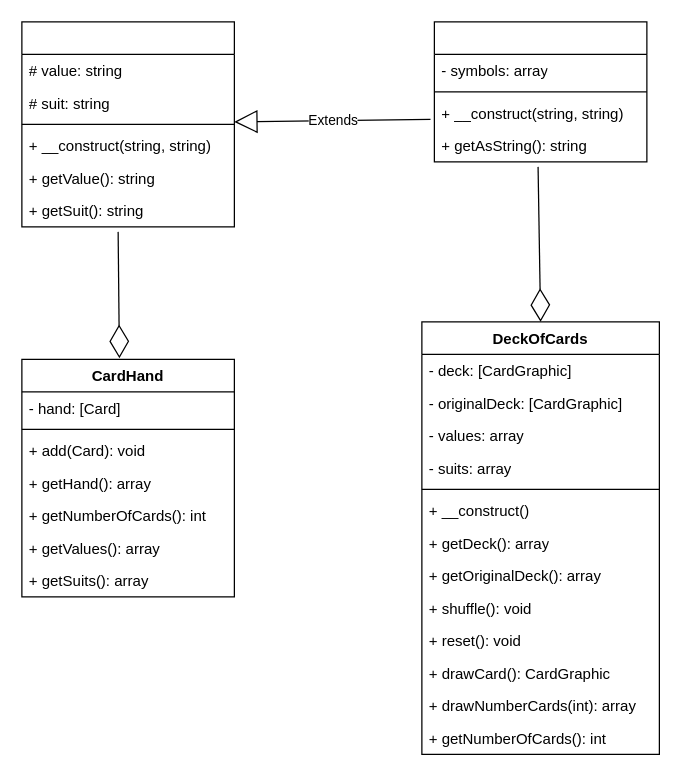
This 691x780 diagram has some shape labels left out. The box of each missing label's shape, as (x1, y1, x2, y2) in pixels:
Card: (21, 21, 234, 227)
CardGraphic: (433, 21, 647, 162)
